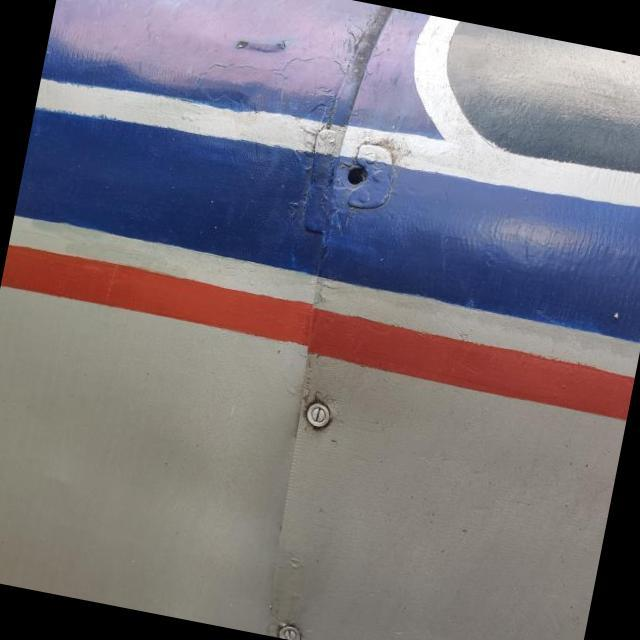Fastener Damage: (325, 143, 400, 218)
